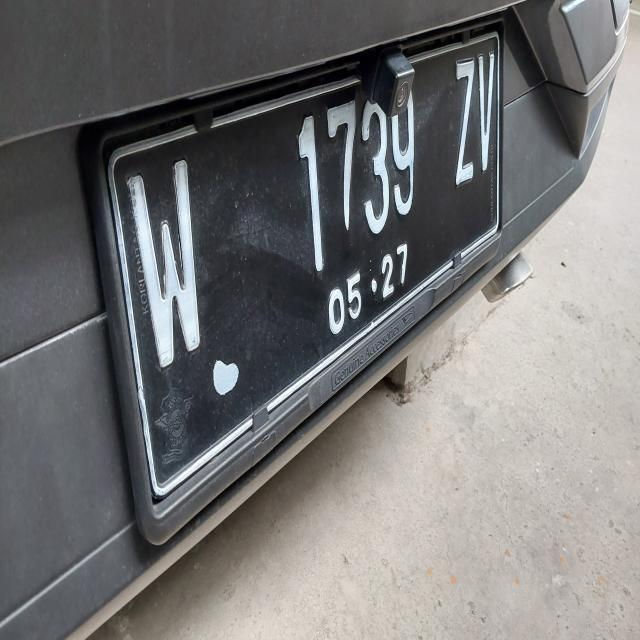1: (284, 102, 336, 292)
3: (352, 79, 396, 241)
7: (318, 93, 370, 254)
9: (386, 71, 426, 230)
V: (470, 32, 506, 191)
W: (115, 152, 218, 378)
Z: (442, 45, 484, 204)
